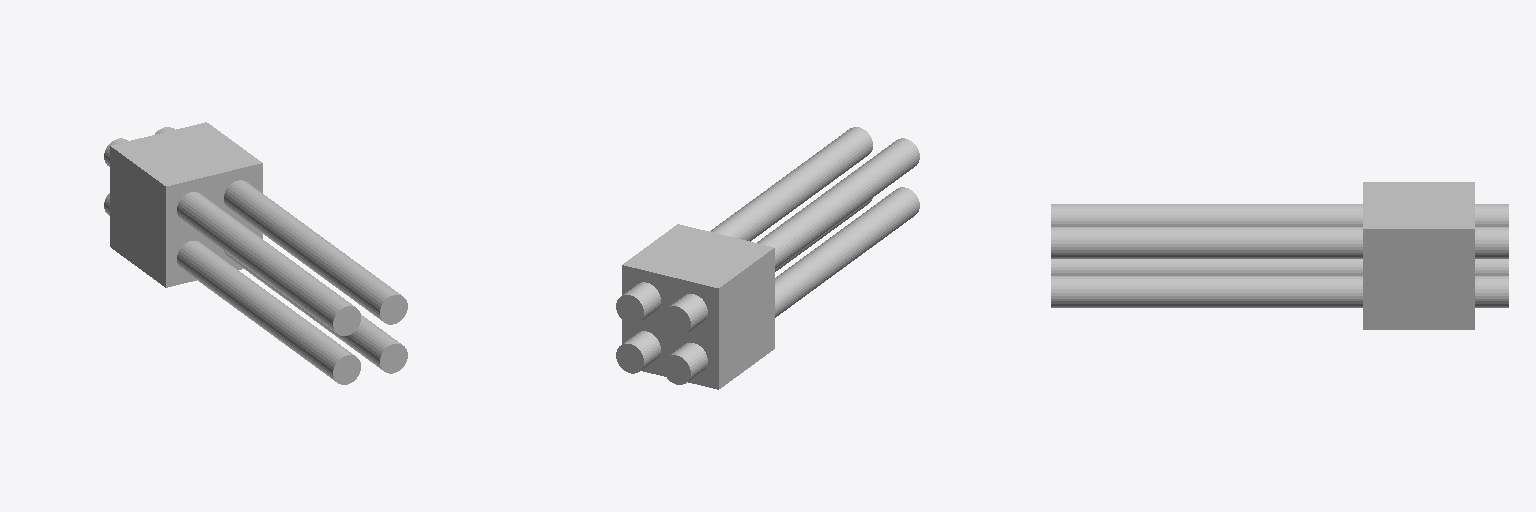
The model's file is heli_barrel.obj.
3 renders of one model, left to right at view 1: azimuth 30°, elevation 25°; view 2: azimuth 150°, elevation 25°; view 3: azimuth 270°, elevation 25°, orthographic.
Visible parts, largest first — view 1: Cylinder_Cylinder.003; view 2: Cylinder_Cylinder.003; view 3: Cylinder_Cylinder.003.
Part boxes in pixels (left/top/right/bottom): Cylinder_Cylinder.003: left=104, top=122, right=407, bottom=384; Cylinder_Cylinder.003: left=616, top=127, right=919, bottom=389; Cylinder_Cylinder.003: left=1051, top=182, right=1508, bottom=329.
Size of the model in its own units: 0.0326 by 0.0326 by 0.1336.